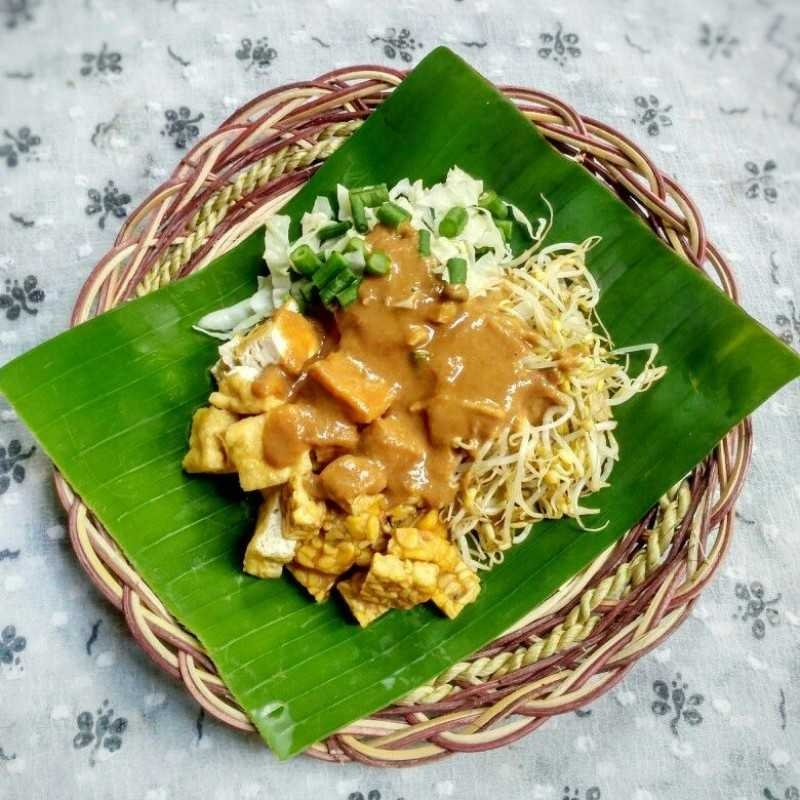pecel: (160, 162, 673, 607)
